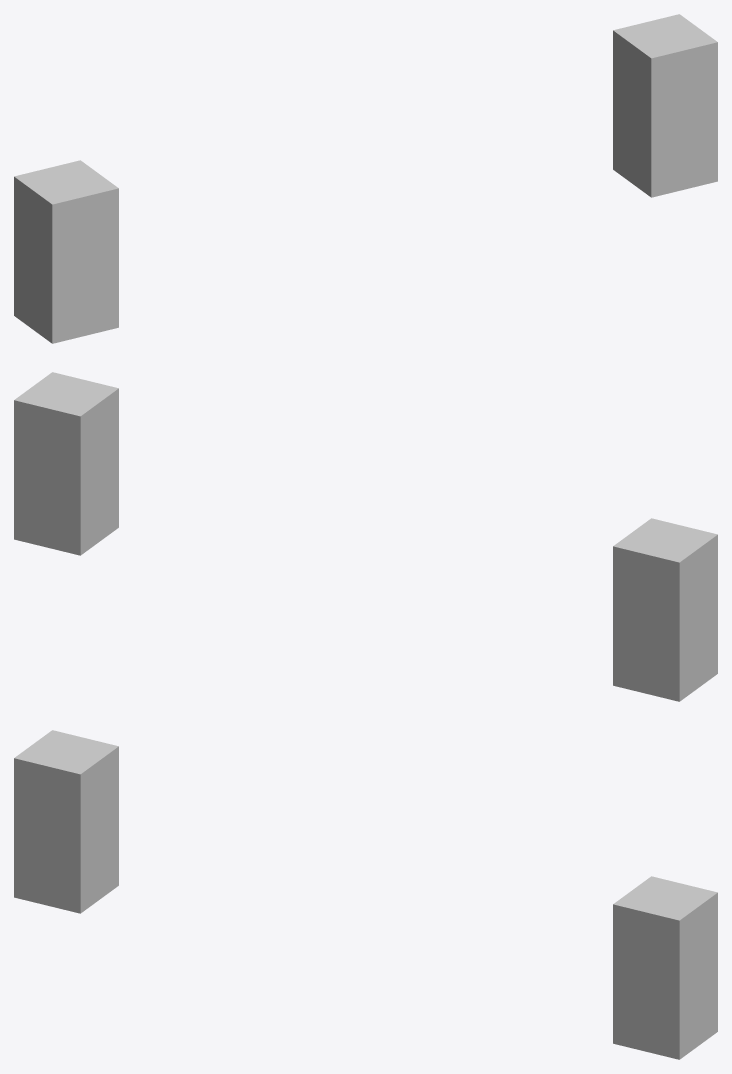
The picture shows the model from 3 angles, top to bottom: view 1: azimuth 30°, elevation 25°; view 2: azimuth 150°, elevation 25°; view 3: azimuth 330°, elevation 25°; orthographic projection.
Visible parts, largest first — view 1: 57.1; view 2: 57.1; view 3: 57.1.
Boxes of the visible parts, x1,y1,x2,y2 form: 57.1: (14,14,717,343); 57.1: (14,372,717,701); 57.1: (14,730,717,1059).
Size of the model in its own units: 100 by 20 by 10.
1 material, 1 textured.
